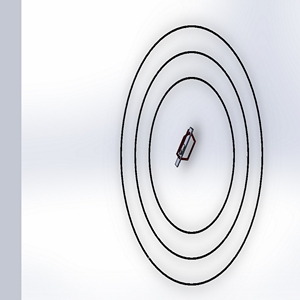circle: (115, 18, 266, 291)
submarine: (172, 123, 202, 171)
